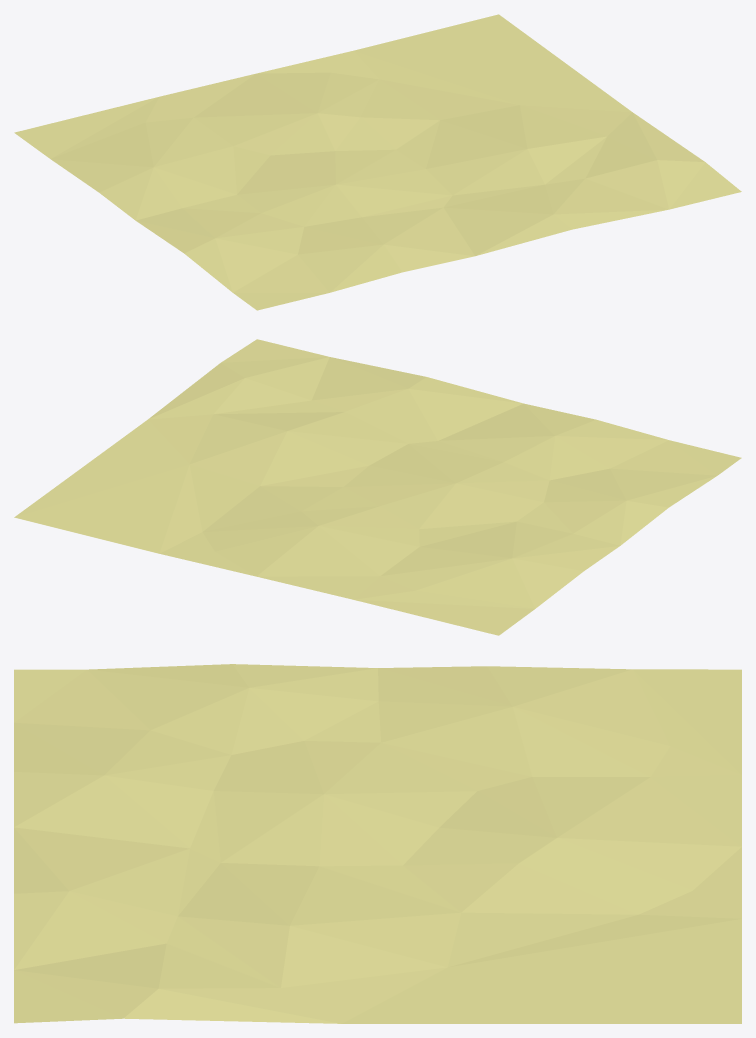
The model's file is beach corner.fbx.
3 renders of one model, top to bottom at view 1: azimuth 30°, elevation 25°; view 2: azimuth 150°, elevation 25°; view 3: azimuth 270°, elevation 25°, orthographic. The views are drawn at different scales.
Parts seen in each view (by area): view 1: Объект_Плоскость_2; view 2: Объект_Плоскость_2; view 3: Объект_Плоскость_2.
Part boxes in pixels (x1,y1,x2,y2): Объект_Плоскость_2: (14, 14, 741, 310); Объект_Плоскость_2: (14, 339, 741, 635); Объект_Плоскость_2: (14, 664, 741, 1023).
Bounding box in the file's own units: 4927 × 79.2 × 4278.
